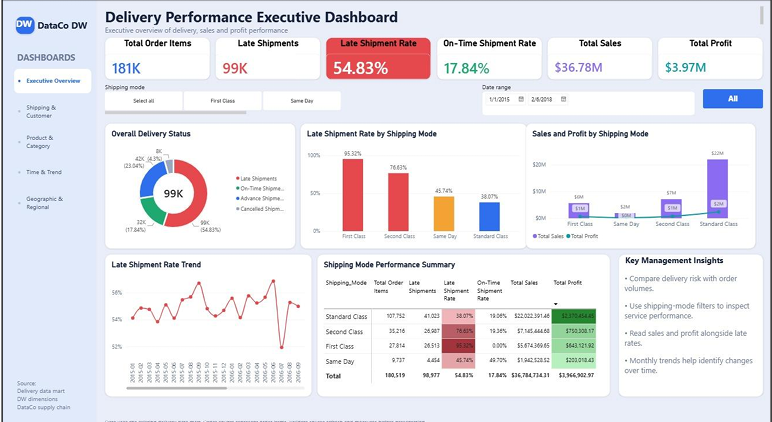

Layout of this report page (visuals, bound fields, positions):
{"tool":"powerbi","page":{"name":"Executive Overview","canvas":[1920,1080],"ordinal":0},"visuals":[{"type":"textbox","box":[0,0,240,1080],"z":0},{"type":"textbox","box":[38,44,48,45],"z":1000},{"type":"textbox","box":[92,48,136,42],"z":2000},{"type":"textbox","box":[42,130,180,30],"z":3000},{"type":"textbox","box":[42,944,174,95],"z":4000},{"type":"textbox","box":[260,18,1640,46],"z":5000},{"type":"textbox","box":[260,65,1640,25],"z":6000},{"type":"textbox","box":[260,1045,1640,24],"z":7000},{"type":"cardVisual","title":"Total Order Items","fields":{"Data":["DM FactDeliveryPerformance.Total Order Items"]},"box":[260,96,261.7,105],"z":8000},{"type":"cardVisual","title":"Late Shipments","fields":{"Data":["DM FactDeliveryPerformance.Late Shipments"]},"box":[535.7,96,261.7,105],"z":9000},{"type":"cardVisual","title":"Late Shipment Rate","fields":{"Data":["DM FactDeliveryPerformance.Late Shipment Rate"]},"box":[811.3,96,261.7,105],"z":10000},{"type":"cardVisual","title":"On-Time Shipment Rate","fields":{"Data":["DM FactDeliveryPerformance.On-Time Shipment Rate"]},"box":[1087,96,261.7,105],"z":11000},{"type":"cardVisual","title":"Total Sales","fields":{"Data":["DM FactDeliveryPerformance.Total Sales"]},"box":[1362.7,96,261.7,105],"z":12000},{"type":"cardVisual","title":"Total Profit","fields":{"Data":["DM FactDeliveryPerformance.Total Profit"]},"box":[1638.3,96,261.7,105],"z":13000},{"type":"donutChart","title":"Overall Delivery Status","fields":{"Y":["DM FactDeliveryPerformance.Late Shipments","DM FactDeliveryPerformance.On-Time Shipments","DM FactDeliveryPerformance.Advance Shipments","DM FactDeliveryPerformance.Cancelled Shipments"]},"box":[260,310,474,312],"z":14000},{"type":"clusteredColumnChart","title":"Late Shipment Rate by Shipping Mode","fields":{"Category":["DW DimShipping.Shipping_Mode"],"Y":["DM FactDeliveryPerformance.Late Shipment Rate"]},"box":[748,310,565,312],"z":15000},{"type":"lineClusteredColumnComboChart","title":"Sales and Profit by Shipping Mode","fields":{"Category":["DW DimShipping.Shipping_Mode"],"Y":["DM FactDeliveryPerformance.Total Sales"],"Y2":["DM FactDeliveryPerformance.Total Profit"]},"box":[1308.4,309.5,573,312],"z":16000},{"type":"lineChart","title":"Late Shipment Rate Trend","fields":{"Category":["DW DimDate.Year Month"],"Y":["DM FactDeliveryPerformance.Late Shipment Rate"]},"box":[260,636,515,354],"z":17000},{"type":"pivotTable","title":"Shipping Mode Performance Summary","fields":{"Rows":["DW DimShipping.Shipping_Mode"],"Values":["DM FactDeliveryPerformance.Total Order Items","DM FactDeliveryPerformance.Late Shipments","DM FactDeliveryPerformance.Late Shipment Rate","DM FactDeliveryPerformance.On-Time Shipment Rate","DM FactDeliveryPerformance.Total Sales","DM FactDeliveryPerformance.Total Profit"]},"box":[789,635.2,729.3,354.7],"z":18000},{"type":"textbox","box":[1518.3,635.2,381.8,354.7],"z":19000},{"type":"textbox","box":[1540,682.2,342,295],"z":20000},{"type":"textbox","box":[34,174,192,61],"z":21000},{"type":"textbox","box":[65,191,165,48],"z":22000},{"type":"textbox","box":[65,258,165,48],"z":23000},{"type":"textbox","box":[65,334,165,48],"z":24000},{"type":"textbox","box":[65,419,165,48],"z":25000},{"type":"textbox","box":[65,486,165,48],"z":26000},{"type":"textbox","box":[44,344,22,28],"z":27000},{"type":"textbox","box":[44,192,22,28],"z":28000},{"type":"textbox","box":[44,420,22,28],"z":29000},{"type":"textbox","box":[44,268,22,28],"z":30000},{"type":"textbox","box":[44,496,22,28],"z":31000},{"type":"actionButton","box":[34,174,192,61],"z":32000},{"type":"actionButton","box":[34,250,192,61],"z":33000},{"type":"actionButton","box":[34,326,192,61],"z":34000},{"type":"actionButton","box":[34,402,192,61],"z":35000},{"type":"actionButton","box":[34,478,192,61],"z":36000},{"type":"textbox","box":[1200,208,530,21],"z":37000},{"type":"textbox","box":[260,208,910,21],"z":38000},{"type":"slicer","fields":{"Values":["DW DimDate.FullDate"]},"box":[1200,229,530,60],"z":39000},{"type":"actionButton","box":[1750,225,150,48],"z":40000},{"type":"advancedSlicerVisual","fields":{"Values":["DW DimShipping.Shipping_Mode"]},"box":[260.6,229.8,588.1,59.7],"z":41000}]}

Visuals, with their boxes on the page's 1920x1080 design canvas (x1, y1, x2, y2). These are canvas units, not pixel positions in the 772x422 screenshot, which may show the page scaled, cropped or inside an application window:
textbox: <bbox>0, 0, 240, 1080</bbox>
textbox: <bbox>38, 44, 86, 89</bbox>
textbox: <bbox>92, 48, 228, 90</bbox>
textbox: <bbox>42, 130, 222, 160</bbox>
textbox: <bbox>42, 944, 216, 1039</bbox>
textbox: <bbox>260, 18, 1900, 64</bbox>
textbox: <bbox>260, 65, 1900, 90</bbox>
textbox: <bbox>260, 1045, 1900, 1069</bbox>
"Total Order Items" cardVisual: <bbox>260, 96, 522, 201</bbox>
"Late Shipments" cardVisual: <bbox>536, 96, 797, 201</bbox>
"Late Shipment Rate" cardVisual: <bbox>811, 96, 1073, 201</bbox>
"On-Time Shipment Rate" cardVisual: <bbox>1087, 96, 1349, 201</bbox>
"Total Sales" cardVisual: <bbox>1363, 96, 1624, 201</bbox>
"Total Profit" cardVisual: <bbox>1638, 96, 1900, 201</bbox>
"Overall Delivery Status" donutChart: <bbox>260, 310, 734, 622</bbox>
"Late Shipment Rate by Shipping Mode" clusteredColumnChart: <bbox>748, 310, 1313, 622</bbox>
"Sales and Profit by Shipping Mode" lineClusteredColumnComboChart: <bbox>1308, 310, 1881, 622</bbox>
"Late Shipment Rate Trend" lineChart: <bbox>260, 636, 775, 990</bbox>
"Shipping Mode Performance Summary" pivotTable: <bbox>789, 635, 1518, 990</bbox>
textbox: <bbox>1518, 635, 1900, 990</bbox>
textbox: <bbox>1540, 682, 1882, 977</bbox>
textbox: <bbox>34, 174, 226, 235</bbox>
textbox: <bbox>65, 191, 230, 239</bbox>
textbox: <bbox>65, 258, 230, 306</bbox>
textbox: <bbox>65, 334, 230, 382</bbox>
textbox: <bbox>65, 419, 230, 467</bbox>
textbox: <bbox>65, 486, 230, 534</bbox>
textbox: <bbox>44, 344, 66, 372</bbox>
textbox: <bbox>44, 192, 66, 220</bbox>
textbox: <bbox>44, 420, 66, 448</bbox>
textbox: <bbox>44, 268, 66, 296</bbox>
textbox: <bbox>44, 496, 66, 524</bbox>
actionButton: <bbox>34, 174, 226, 235</bbox>
actionButton: <bbox>34, 250, 226, 311</bbox>
actionButton: <bbox>34, 326, 226, 387</bbox>
actionButton: <bbox>34, 402, 226, 463</bbox>
actionButton: <bbox>34, 478, 226, 539</bbox>
textbox: <bbox>1200, 208, 1730, 229</bbox>
textbox: <bbox>260, 208, 1170, 229</bbox>
slicer - DW DimDate.FullDate: <bbox>1200, 229, 1730, 289</bbox>
actionButton: <bbox>1750, 225, 1900, 273</bbox>
advancedSlicerVisual - DW DimShipping.Shipping_Mode: <bbox>261, 230, 849, 290</bbox>
